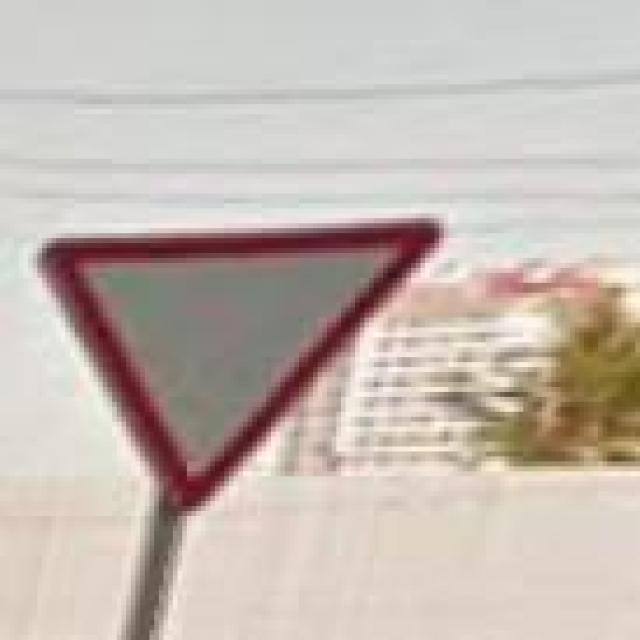give_way: (37, 218, 439, 511)
